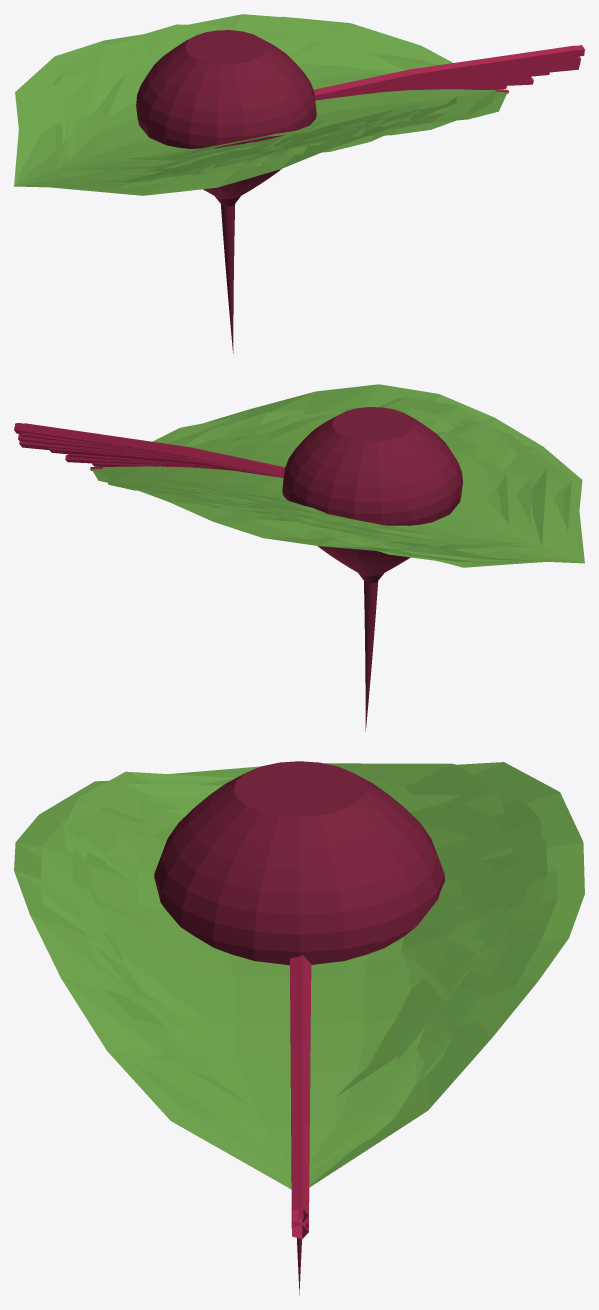
Rendered from beetroot_harvest_v21.articulated.glb.
3 views of the same model, one above another, from view 1: azimuth 30°, elevation 25°; view 2: azimuth 150°, elevation 25°; view 3: azimuth 270°, elevation 25° (orthographic). The views are drawn at different scales.
Visible parts, largest first — view 1: root, leaf03_link2, leaf05_link2, leaf01_link2, leaf09_link2, leaf08_link2, leaf10_link2, leaf00_link2, leaf09_link0, leaf02_link2, leaf08_link0, leaf13_link2 (+8 smaller); view 2: root, leaf05_link2, leaf03_link2, leaf01_link2, leaf09_link2, leaf00_link2, leaf08_link0, leaf10_link2, leaf04_link2, leaf11_link2, leaf08_link2, leaf12_link2 (+8 smaller); view 3: root, leaf05_link2, leaf01_link2, leaf03_link2, leaf09_link2, leaf04_link2, leaf02_link2, leaf08_link0, leaf08_link2, leaf00_link2, leaf13_link2, leaf12_link2 (+4 smaller).
Boxes of the visible parts, x1,y1,x2,y2 form: root: (136,30,316,353); leaf03_link2: (14,42,425,189); leaf05_link2: (65,14,497,176); leaf01_link2: (15,16,508,195); leaf09_link2: (55,24,456,171); leaf08_link2: (67,49,402,168); leaf10_link2: (91,52,420,159); leaf00_link2: (53,37,435,182); leaf09_link0: (314,45,584,100); leaf02_link2: (61,29,395,164); leaf08_link0: (313,45,577,95); leaf13_link2: (27,38,383,177); root: (282,407,462,731); leaf05_link2: (101,397,532,551); leaf03_link2: (156,413,584,563); leaf01_link2: (90,384,582,562); leaf09_link2: (183,410,546,556); leaf00_link2: (223,410,571,567); leaf08_link0: (21,423,284,476); leaf10_link2: (248,428,509,540); leaf04_link2: (226,448,501,529); leaf11_link2: (224,424,517,524); leaf08_link2: (278,414,531,546); leaf12_link2: (249,432,504,530); root: (154,761,445,1295); leaf05_link2: (40,798,558,1172); leaf01_link2: (14,762,584,1189); leaf03_link2: (91,763,505,1096); leaf09_link2: (64,783,547,1108); leaf04_link2: (137,825,461,987); leaf02_link2: (72,795,507,1082); leaf08_link0: (290,955,311,1214); leaf08_link2: (102,798,512,995); leaf00_link2: (73,771,541,1060); leaf13_link2: (86,773,484,1061); leaf12_link2: (105,815,494,939).
Size of the model in its own units: 0.2555 by 0.1332 by 0.1376.
1 material, 1 textured.
